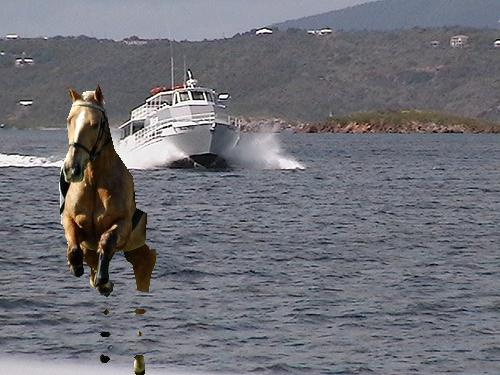tampered: (60, 86, 156, 375)
